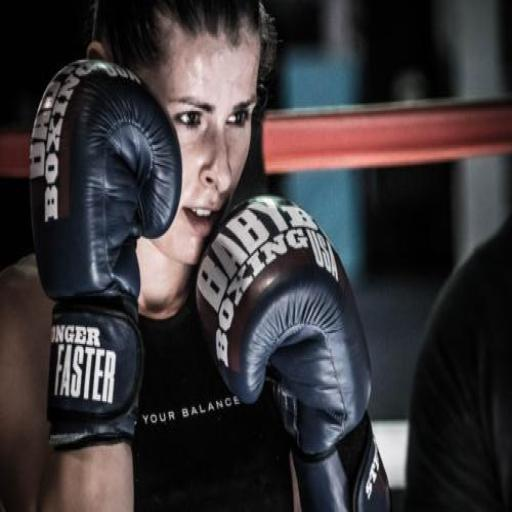boxing: (0, 0, 393, 510)
